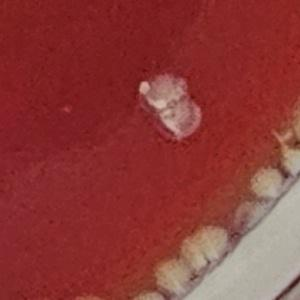colony: (153, 95, 214, 148), (189, 224, 239, 265), (226, 197, 277, 235), (136, 75, 192, 107), (149, 259, 198, 294), (175, 234, 216, 274), (246, 166, 291, 200), (279, 142, 300, 178), (131, 289, 174, 300), (288, 115, 300, 145)
